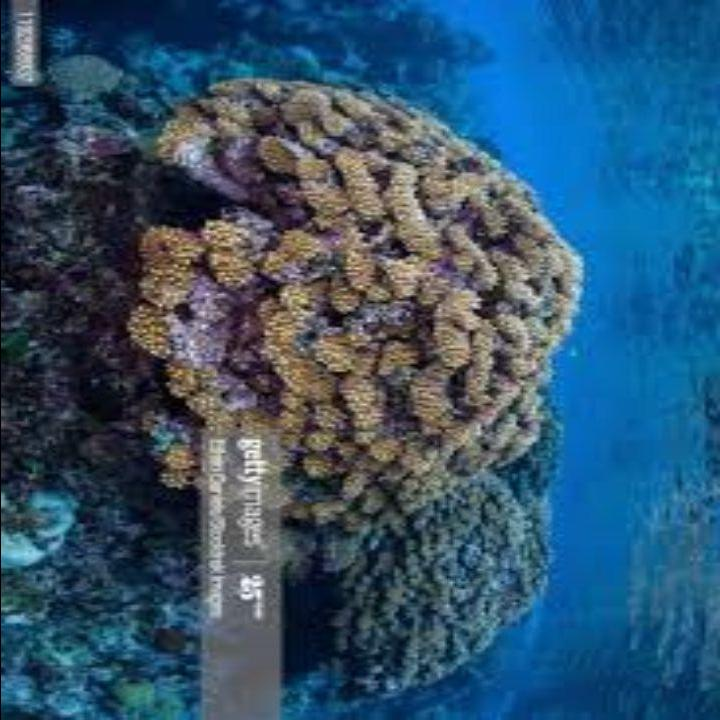Healthy Coral: (101, 103, 582, 561)
